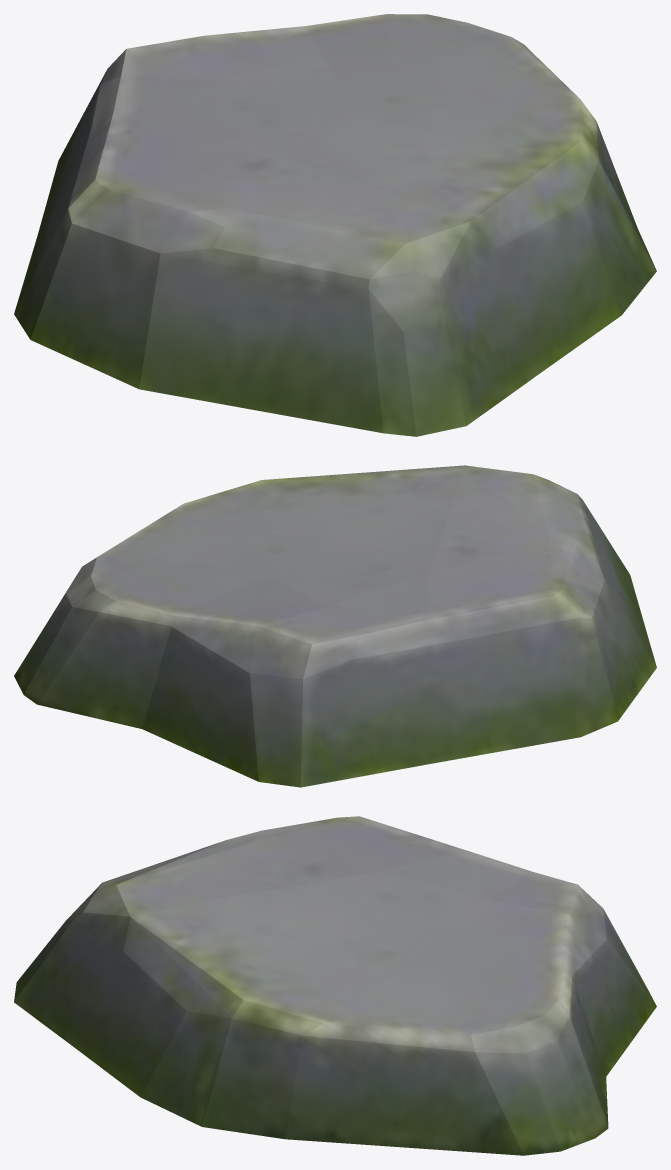
Rendered from Pebble_Round_3.glb.
3 renders of one model, top to bottom at view 1: azimuth 30°, elevation 25°; view 2: azimuth 150°, elevation 25°; view 3: azimuth 270°, elevation 25°, orthographic. The views are drawn at different scales.
Visible parts, largest first — view 1: Pebble_Round_3; view 2: Pebble_Round_3; view 3: Pebble_Round_3.
Boxes of the visible parts, box(x1,y1,x2,y2) form: Pebble_Round_3: box(14, 14, 656, 436); Pebble_Round_3: box(14, 465, 656, 787); Pebble_Round_3: box(14, 816, 656, 1155).
Bounding box in the file's own units: 0.4497 × 0.0986 × 0.4848.
1 material, 1 textured.
